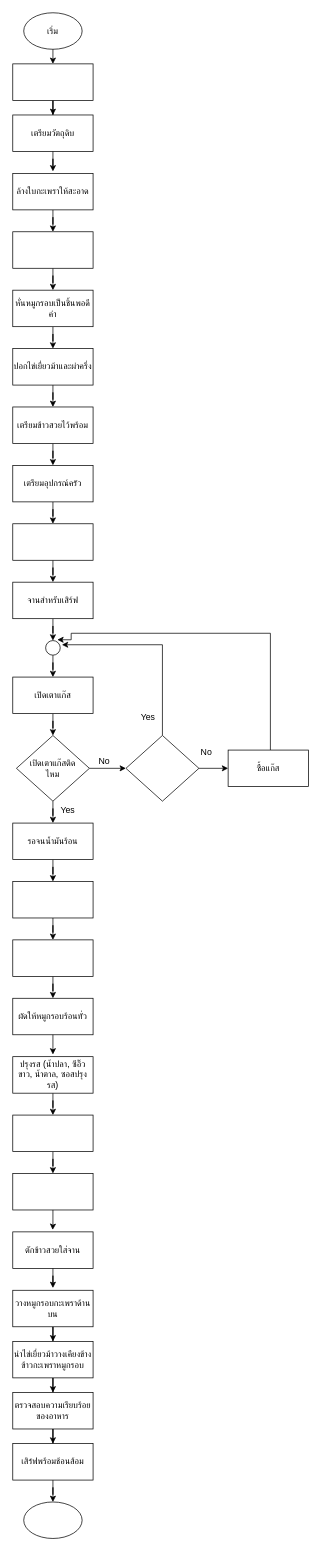
The diagram is 321 pixels wide and 1551 high, and some of its shapes have lost their labels. The shapes that lost their labels are listed below. From the top down, each one's centre as x and y in pixels, then its label:
At point 52,81: "ตรวจสอบวัตถุดิบและอุปกรณ์".
At point 52,249: "ปอกกระเทียม–พริก แล้วโขลกรวมกัน".
At point 52,541: "กระทะ, ตะหลิว, เขียง, มีด".
At point 162,768: "เช็คว่ามีแก๊สไหม".
At point 52,899: "ใส่พริก–กระเทียมที่โขลกไว้ลงผัด".
At point 52,957: "เมื่อมีกลิ่นหอม → ใส่หมูกรอบ".
At point 52,1133: "ใส่ใบกะเพรา → ผัดเร็ว ๆ ให้เข้ากัน".
At point 52,1191: "ปิดเตา".
At point 52,1519: "จบ".
